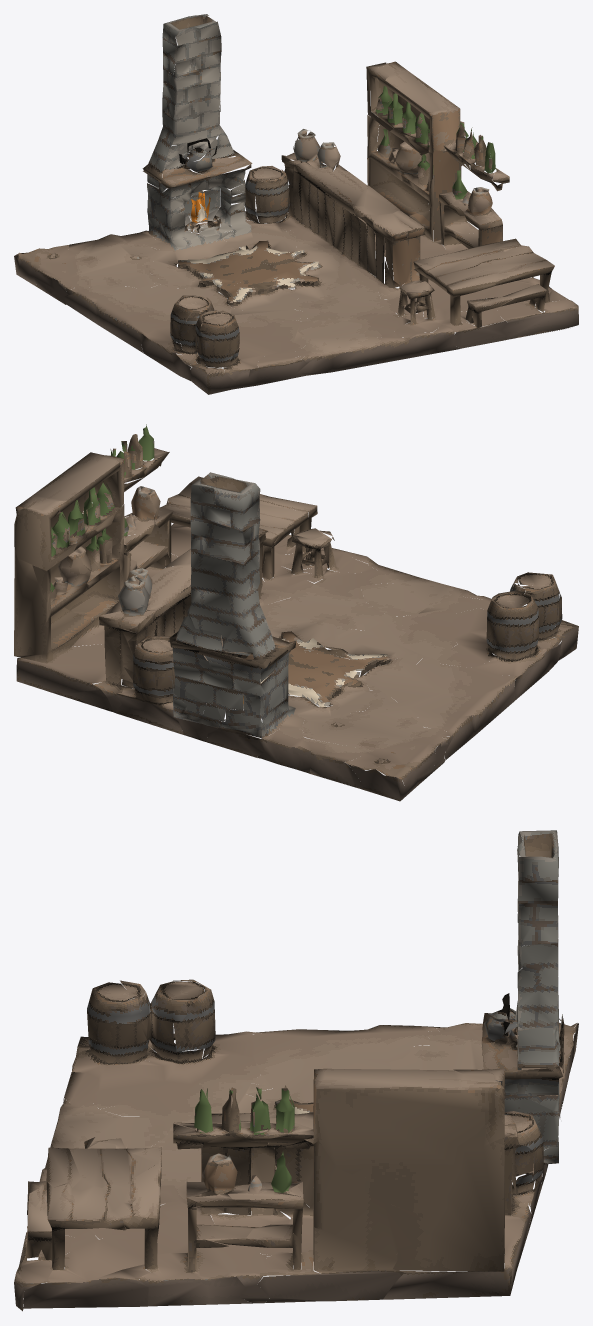
File: posada_muebles.glb
The picture shows the model from 3 angles, top to bottom: view 1: azimuth 30°, elevation 25°; view 2: azimuth 150°, elevation 25°; view 3: azimuth 270°, elevation 25°; orthographic projection. The views are drawn at different scales.
Parts seen in each view (by area): view 1: tripo_node_1533c053-b3b3-4b12-8263-185ed3dd1467; view 2: tripo_node_1533c053-b3b3-4b12-8263-185ed3dd1467; view 3: tripo_node_1533c053-b3b3-4b12-8263-185ed3dd1467.
Boxes of the visible parts, x1=… form: tripo_node_1533c053-b3b3-4b12-8263-185ed3dd1467: x1=14, y1=14, x2=578, y2=394; tripo_node_1533c053-b3b3-4b12-8263-185ed3dd1467: x1=14, y1=424, x2=578, y2=801; tripo_node_1533c053-b3b3-4b12-8263-185ed3dd1467: x1=14, y1=830, x2=578, y2=1311.
Bounding box in the file's own units: 1.75 × 1.01 × 1.59.
Materials: 1 (1 with a texture image).
